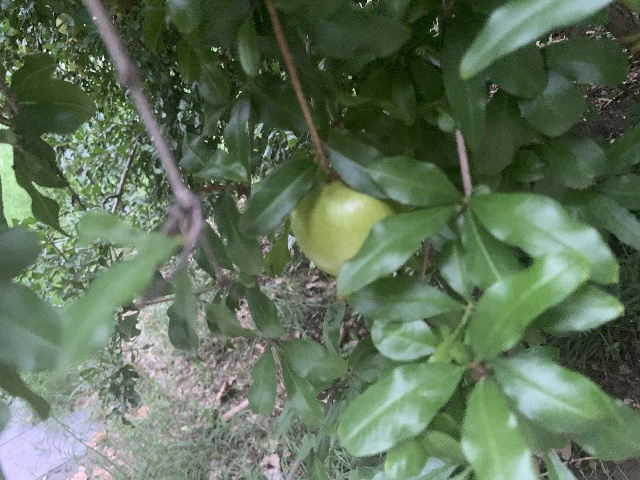mid-growth: (290, 174, 406, 276)
